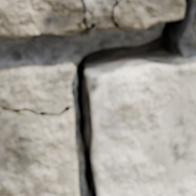brick: (88, 58, 195, 195), (0, 60, 79, 195), (0, 0, 82, 38), (115, 0, 184, 30), (86, 0, 116, 29)
crack: (2, 0, 193, 195), (77, 0, 99, 30), (111, 0, 125, 30)
